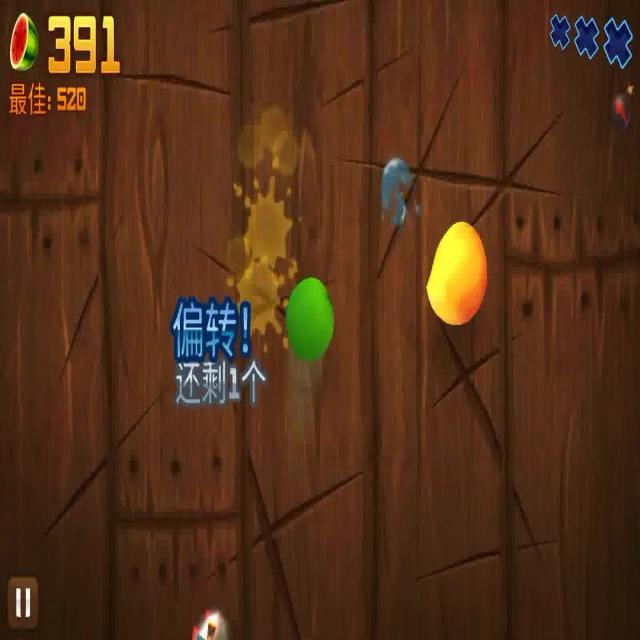fruit: (426, 218, 486, 326), (282, 277, 338, 362)
